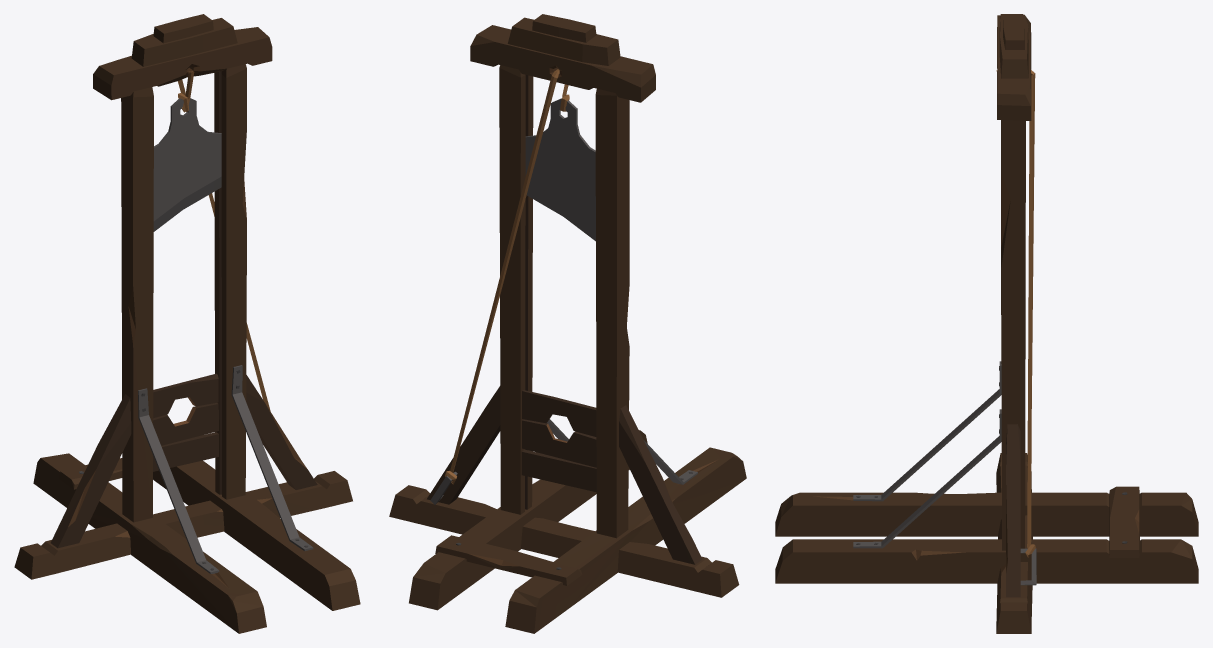
File: Guillotine.fbx
3 views of the same model, side by side, from view 1: azimuth 30°, elevation 25°; view 2: azimuth 150°, elevation 25°; view 3: azimuth 270°, elevation 25° (orthographic). The views are drawn at different scales.
Visible parts, largest first — view 1: guillotine; view 2: guillotine; view 3: guillotine.
Part boxes in pixels (<box>): guillotine: <box>14,14,360,633</box>; guillotine: <box>389,14,746,633</box>; guillotine: <box>775,14,1198,633</box>.
Bounding box in the file's own units: 12173 × 18451 × 13476.
